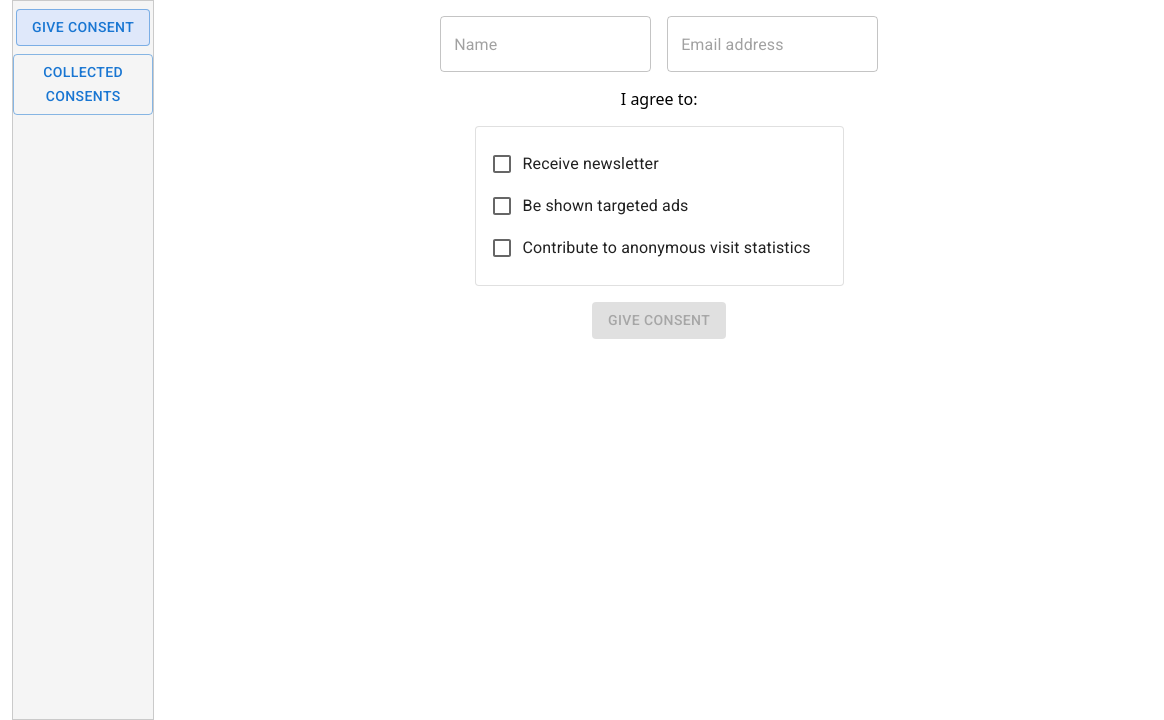
Test: Form Validation and Button State on Give Consent Page › should correctly manage the "Give consent" button state
Expected: the submit button is disabled, [592,302,726,339]
Note: Fill in name and email, button should still be disabled
Type "Test User" into the field named "name" at (546, 44), box [440,16,651,72]
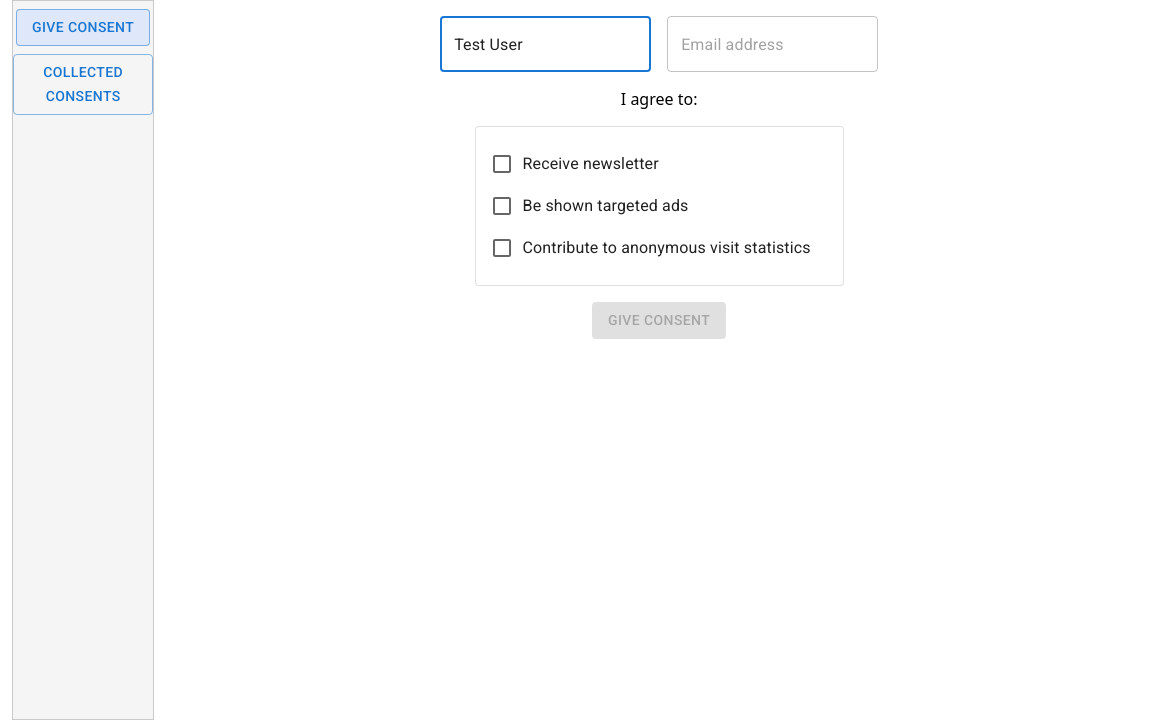
Type "test@example.com" into the field named "email" at (773, 44), box [667,16,878,72]
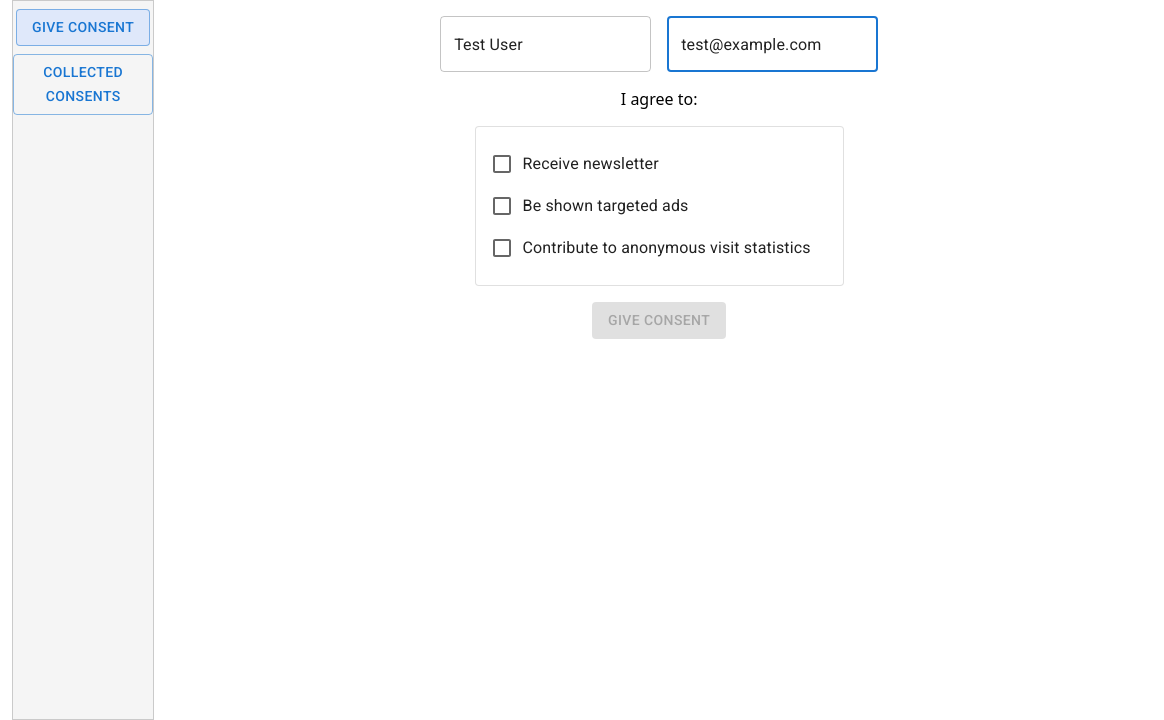
Expected: the submit button is disabled, [592,302,726,339]
Note: Select a consent
Check the checkbox labelled "Receive newsletter" at (502, 164), box [481,143,523,185]
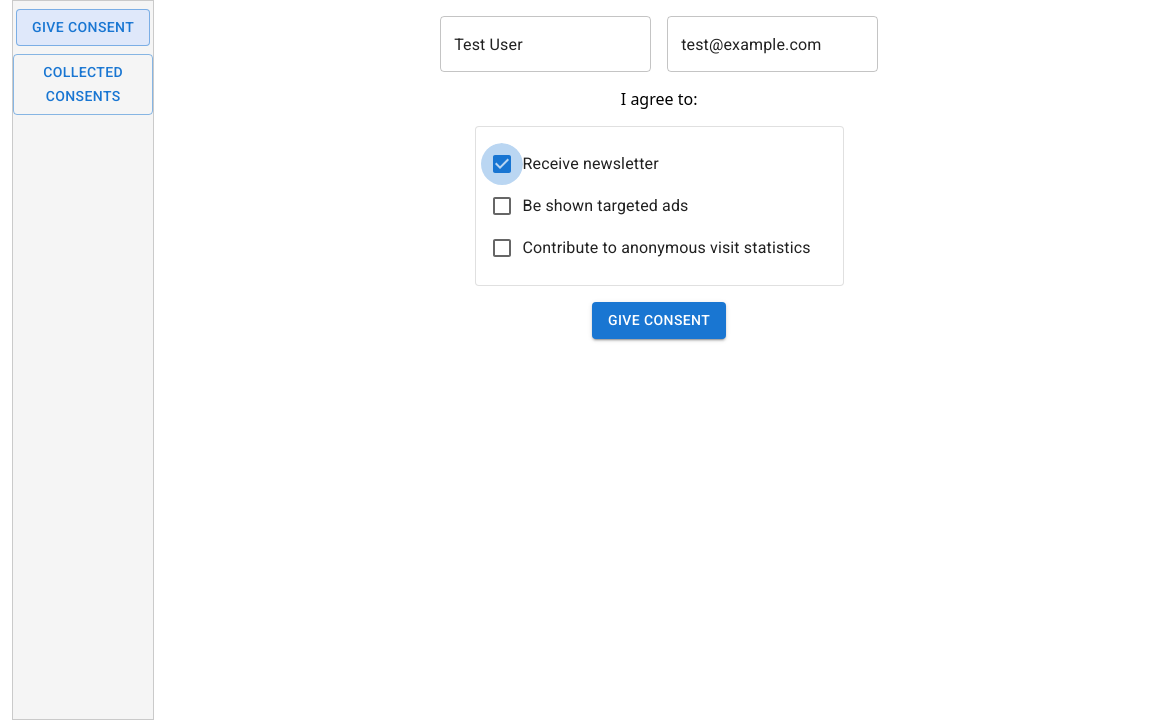
Expected: the submit button is enabled
Note: Select another consent, button remains enabled
Check the checkbox labelled "Be shown targeted ads" at (502, 206), box [481,185,523,227]
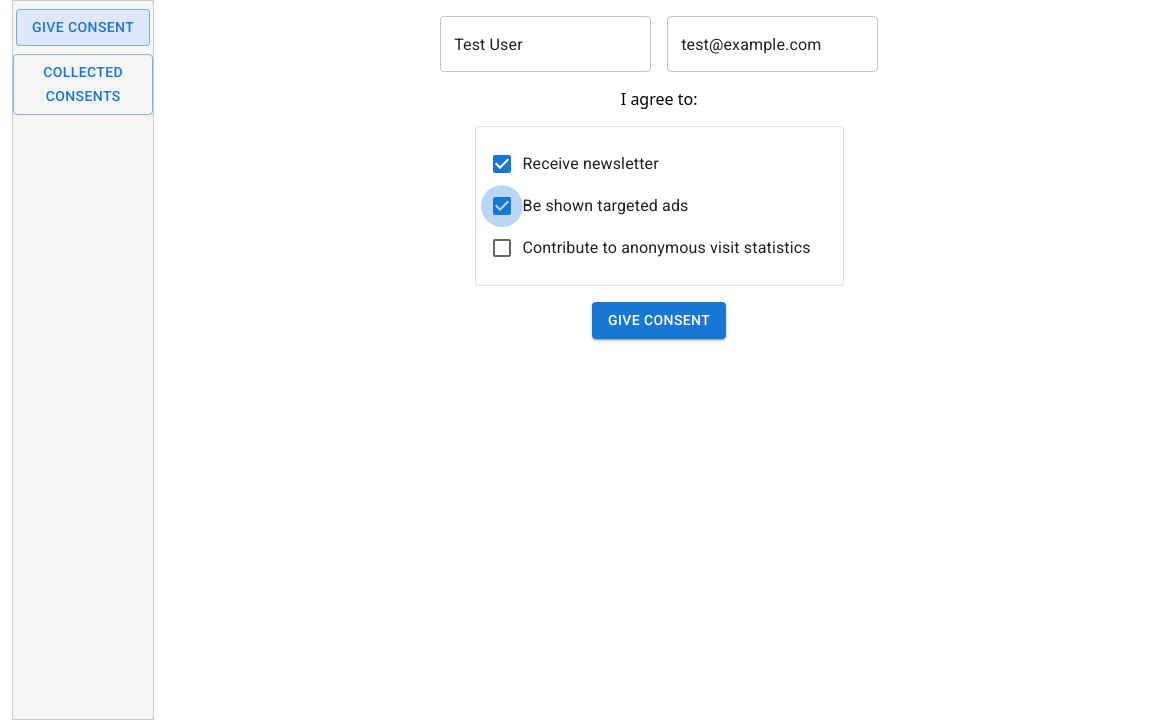
Expected: the submit button is enabled
Note: Deselect one consent, button remains enabled
Uncheck the checkbox labelled "Receive newsletter" at (502, 164), box [481,143,523,185]
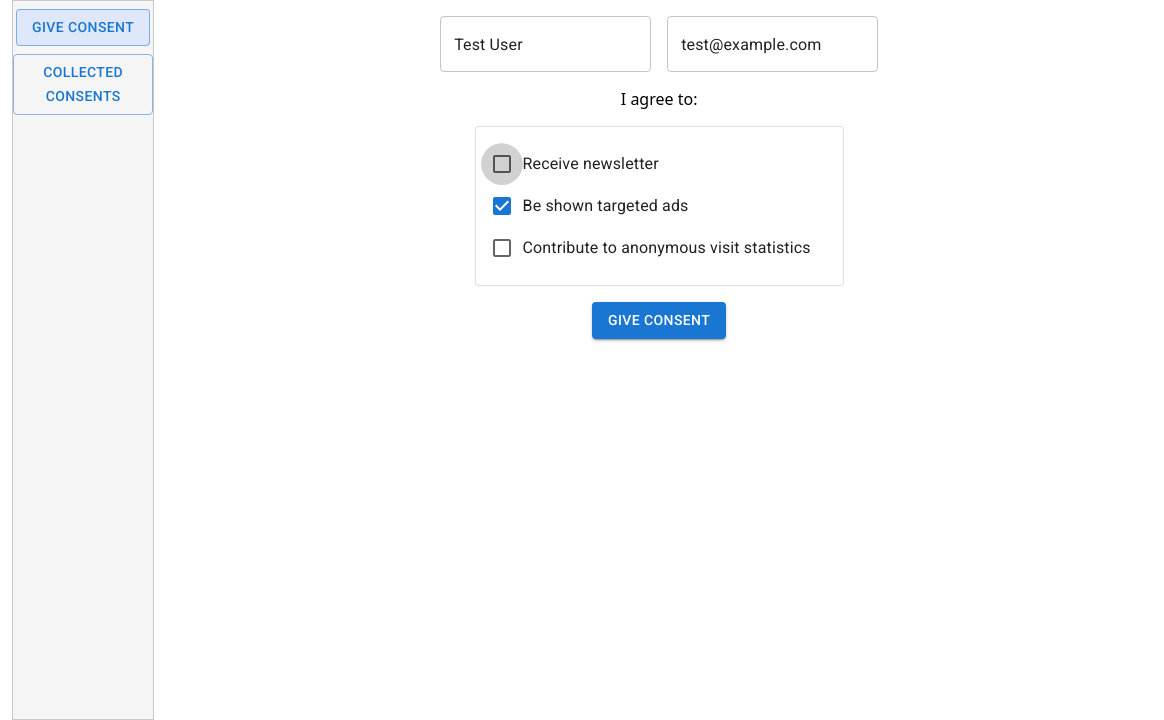
Expected: the submit button is enabled
Note: Deselect all consents
Uncheck the checkbox labelled "Be shown targeted ads" at (502, 206), box [481,185,523,227]
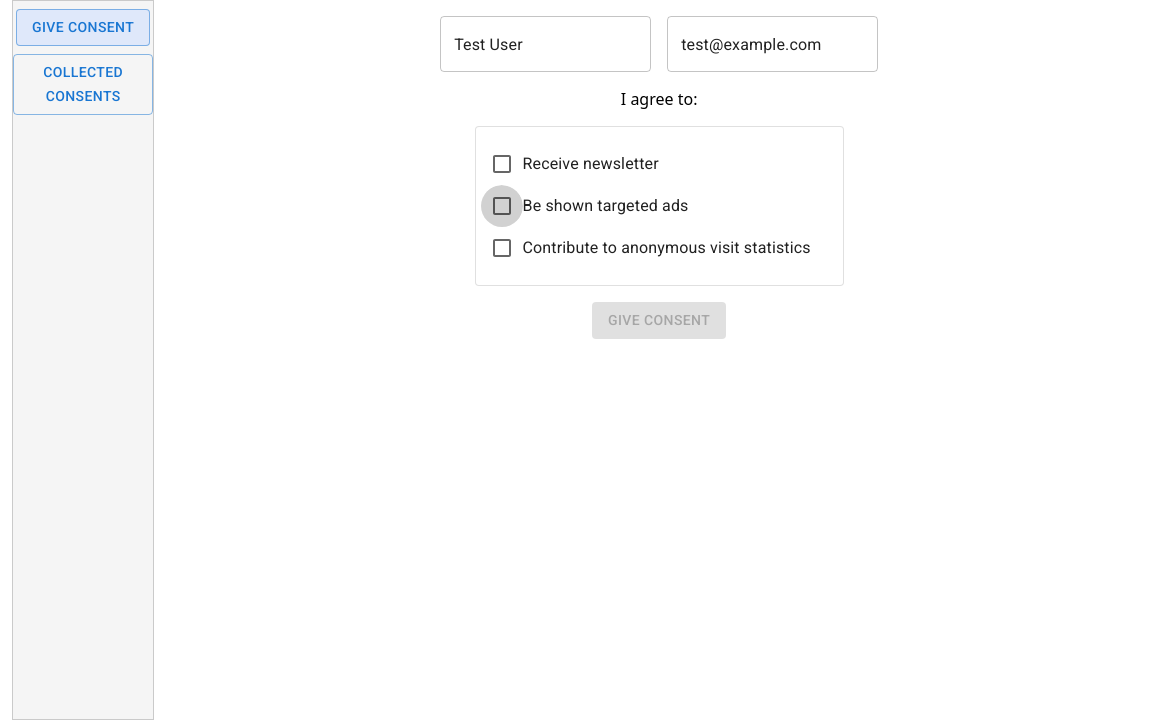
Expected: the submit button is disabled, [592,302,726,339]
